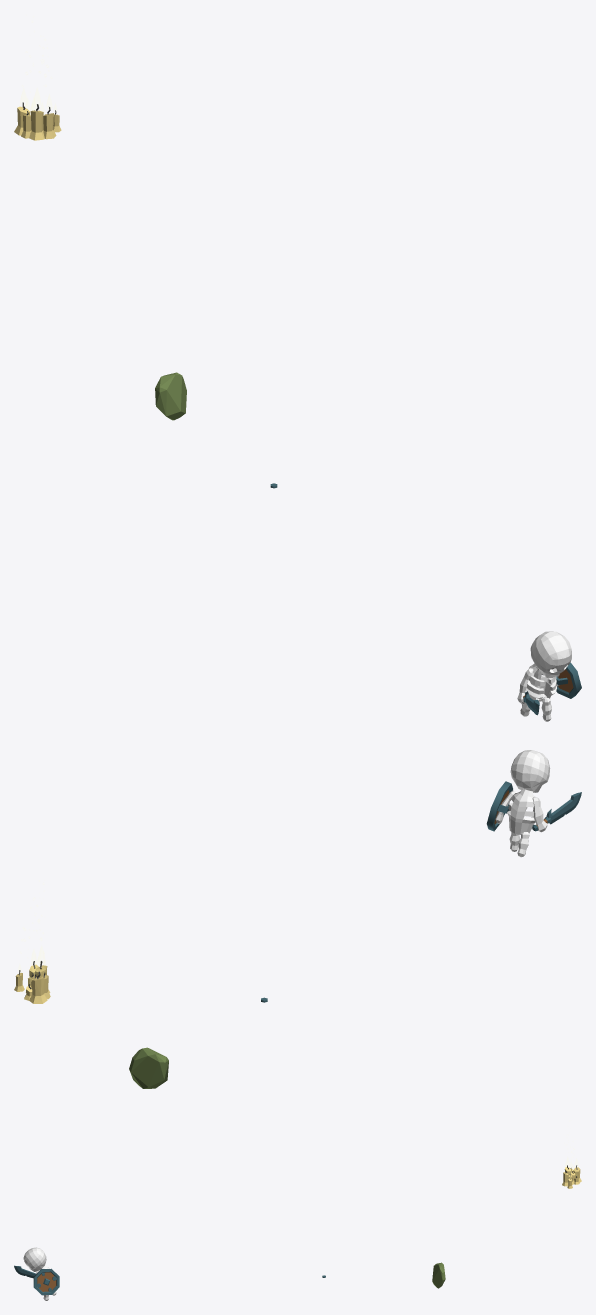
3 renders of one model, top to bottom at view 1: azimuth 30°, elevation 25°; view 2: azimuth 150°, elevation 25°; view 3: azimuth 270°, elevation 25°, orthographic. The views are drawn at different scales.
Visible parts, largest first — view 1: Head066_white_0, Box131_green3_0, Cylinder1509_yellow2_0; view 2: Head066_white_0, Box131_green3_0, Sphere109_white_0, Cylinder1509_yellow2_0, Cylinder1291_metal_0, Cylinder1290_metal_0; view 3: Head066_white_0, Cylinder1291_metal_0, Cylinder1509_yellow2_0, Box131_green3_0, Cylinder1291_brown_0.
Boxes of the visible parts, x1,y1,x2,y2 form: Head066_white_0: (530,631,571,677); Box131_green3_0: (155,372,186,420); Cylinder1509_yellow2_0: (14,106,61,140); Head066_white_0: (510,750,550,792); Box131_green3_0: (129,1047,168,1088); Sphere109_white_0: (507,788,535,834); Cylinder1509_yellow2_0: (14,964,50,1003); Cylinder1291_metal_0: (486,781,512,831); Cylinder1290_metal_0: (532,792,581,831); Head066_white_0: (23,1247,46,1271); Cylinder1291_metal_0: (33,1268,59,1295); Cylinder1509_yellow2_0: (562,1167,581,1188); Box131_green3_0: (432,1262,445,1288); Cylinder1291_brown_0: (37,1272,56,1291).
Bounding box in the file's own units: 111 × 574 × 1648.
